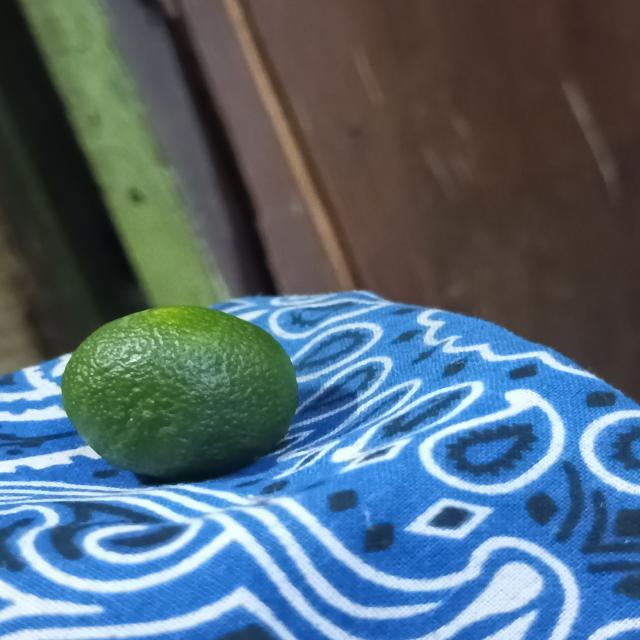heathy: (56, 308, 306, 488)
